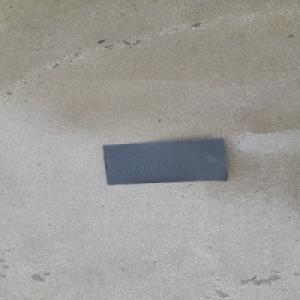PaintChip: (102, 137, 228, 185)
